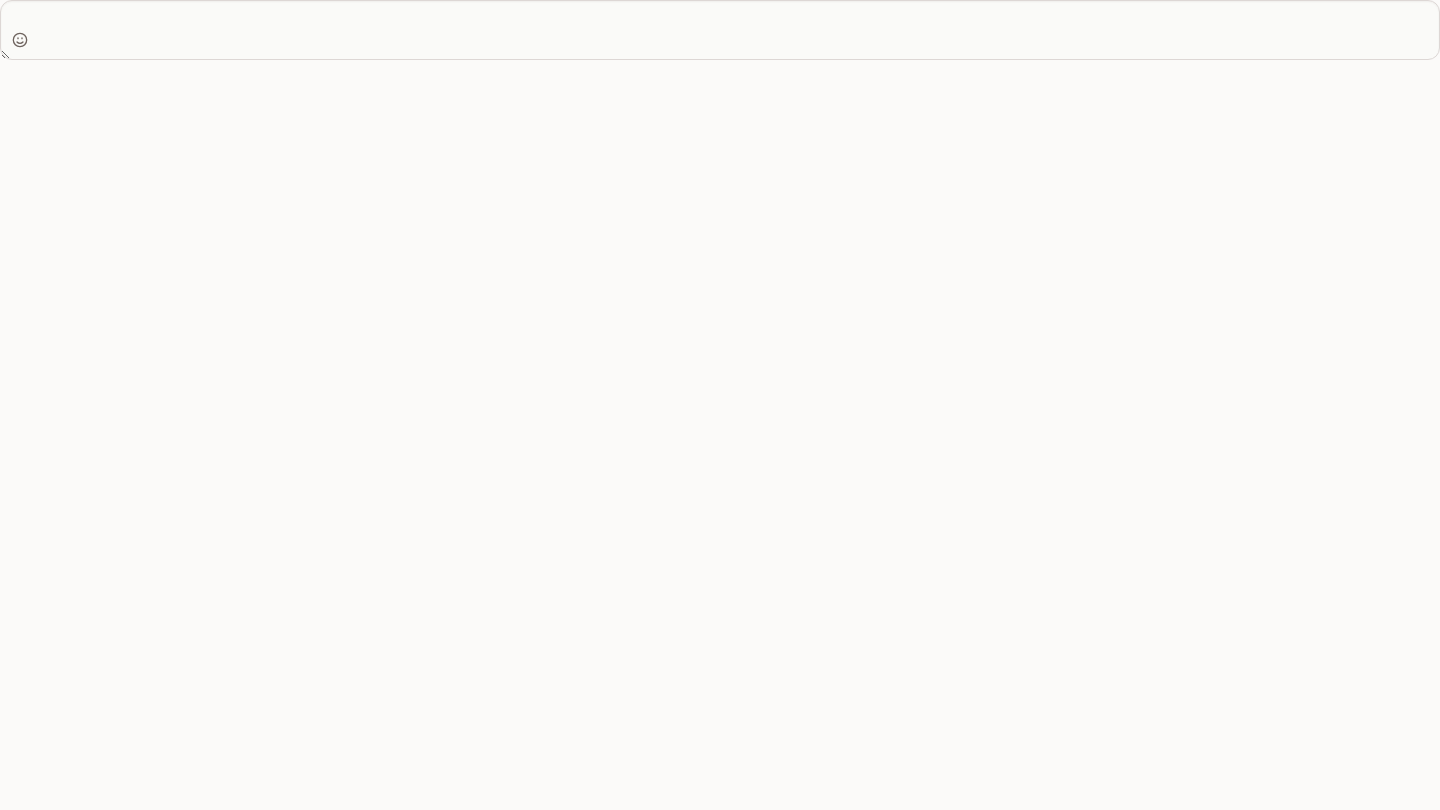
Test: inside EmojiProvider › empty catalog ⇒ picker explains how to add emojis
This screenshot has width=1440, height=810.
What coordinates should you click on to do the following:
click the button with test id "emoji-picker-trigger"
I would click on:
 (20, 40)
Its box is [6,26,34,54].
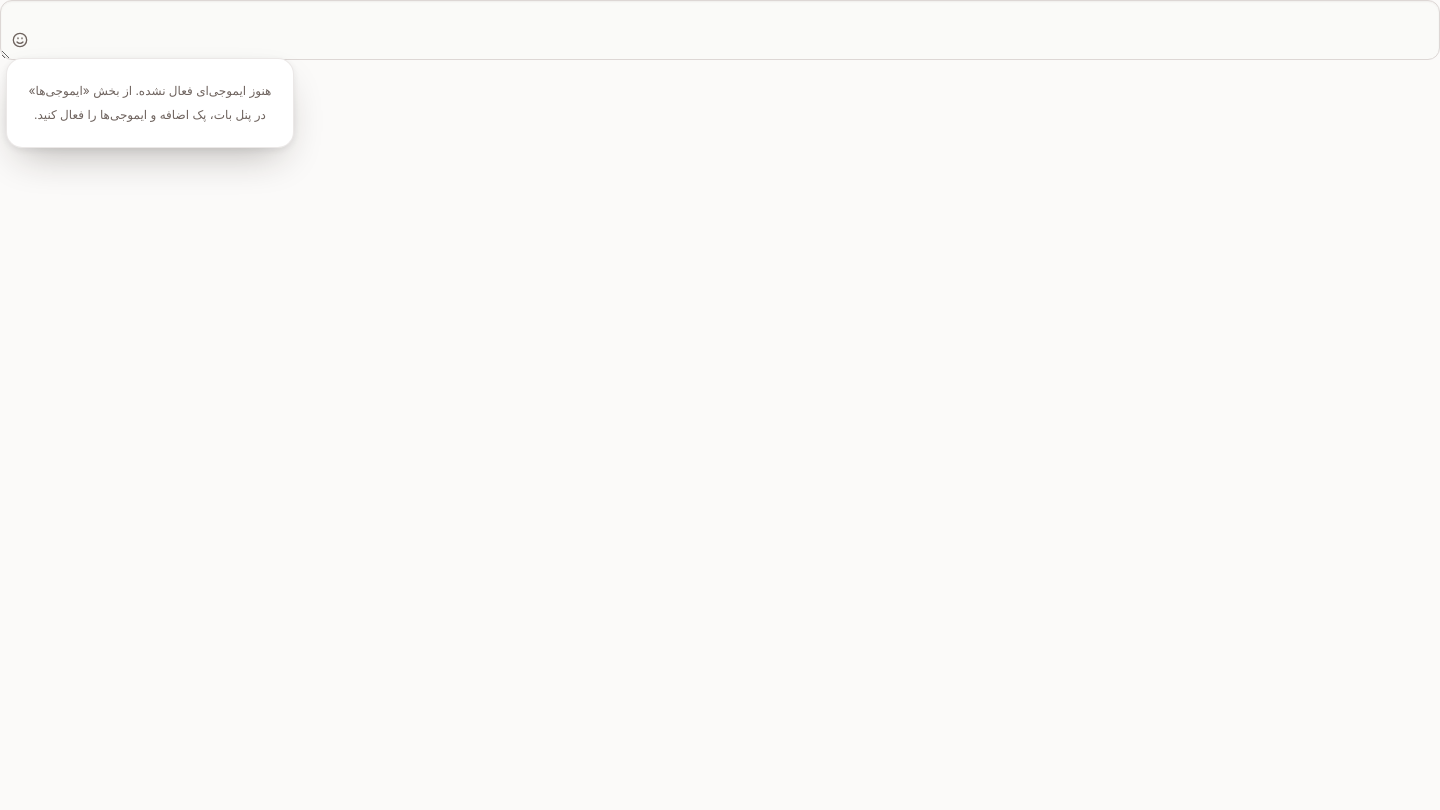
Check: the text "هنوز ایموجی‌ای فعال نشده" is shown, box [29,83,272,122]
